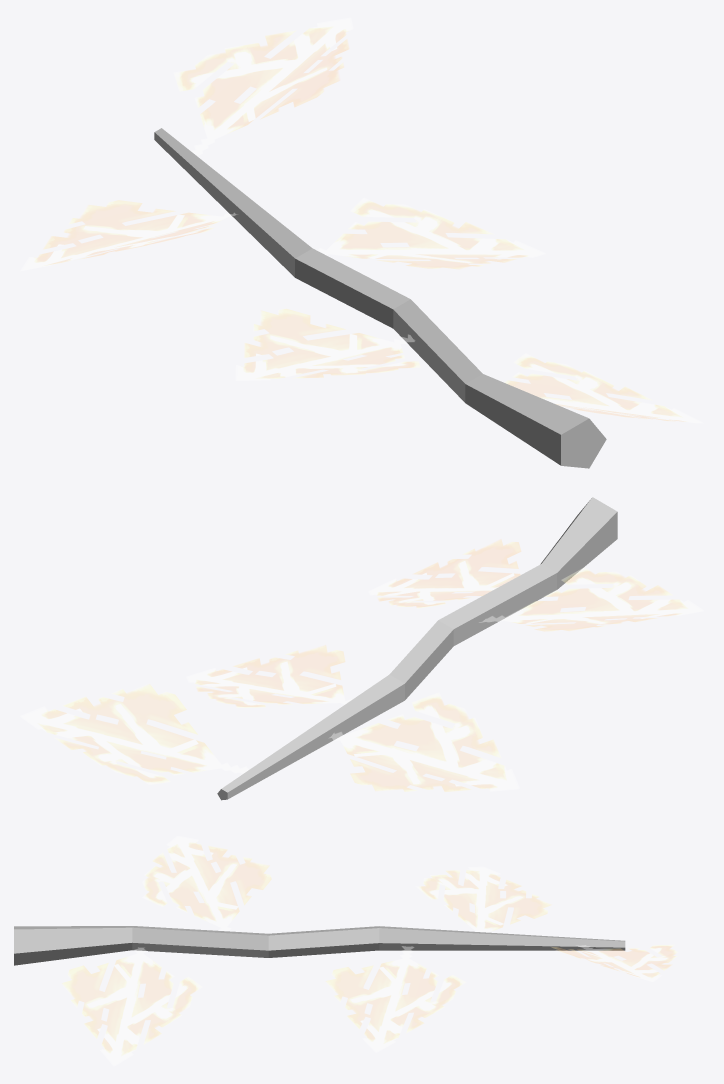
Rendered from branch.glb.
3 renders of one model, top to bottom at view 1: azimuth 30°, elevation 25°; view 2: azimuth 150°, elevation 25°; view 3: azimuth 270°, elevation 25°, orthographic. The views are drawn at different scales.
Parts seen in each view (by area): view 1: pCylinder1, pPlane4, pPlane3, pPlane1, pPlane5, pPlane6; view 2: pCylinder1, pPlane5, pPlane4, pPlane1, pPlane3, pPlane6; view 3: pCylinder1, pPlane6, pPlane3, pPlane1, pPlane5, pPlane4.
Boxes of the visible parts, left/top/right/bottom form: pCylinder1: left=154, top=128, right=606, bottom=468; pPlane4: left=174, top=18, right=353, bottom=155; pPlane3: left=317, top=198, right=545, bottom=268; pPlane1: left=236, top=309, right=420, bottom=380; pPlane5: left=21, top=200, right=236, bottom=270; pPlane6: left=505, top=353, right=702, bottom=422; pCylinder1: left=217, top=497, right=617, bottom=800; pPlane5: left=329, top=693, right=519, bottom=791; pPlane4: left=20, top=684, right=248, bottom=784; pPlane1: left=479, top=567, right=703, bottom=631; pPlane3: left=186, top=645, right=351, bottom=707; pPlane6: left=369, top=539, right=520, bottom=608; pCylinder1: left=14, top=926, right=625, bottom=965; pPlane6: left=62, top=947, right=201, bottom=1065; pPlane3: left=325, top=946, right=465, bottom=1052; pPlane1: left=142, top=836, right=271, bottom=930; pPlane5: left=416, top=867, right=551, bottom=932; pPlane4: left=552, top=945, right=677, bottom=981.
Size of the model in its own units: 106 by 32.87 by 192.
Materials: 2 (1 with a texture image).
